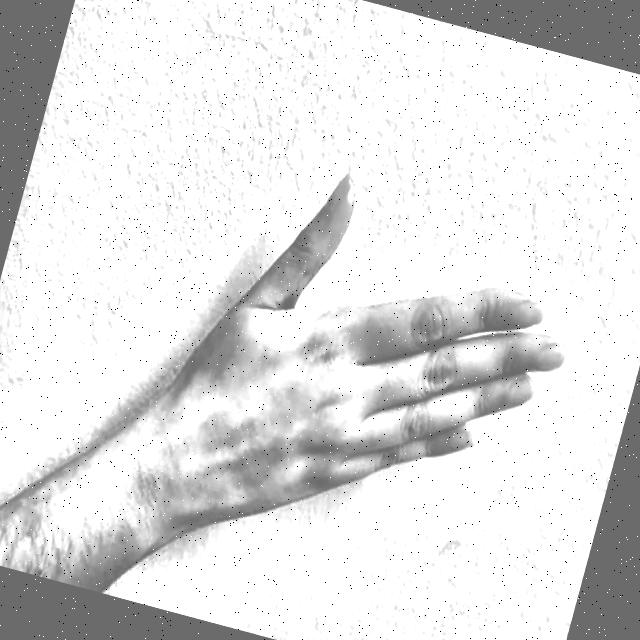Aa: (123, 85, 624, 632)
